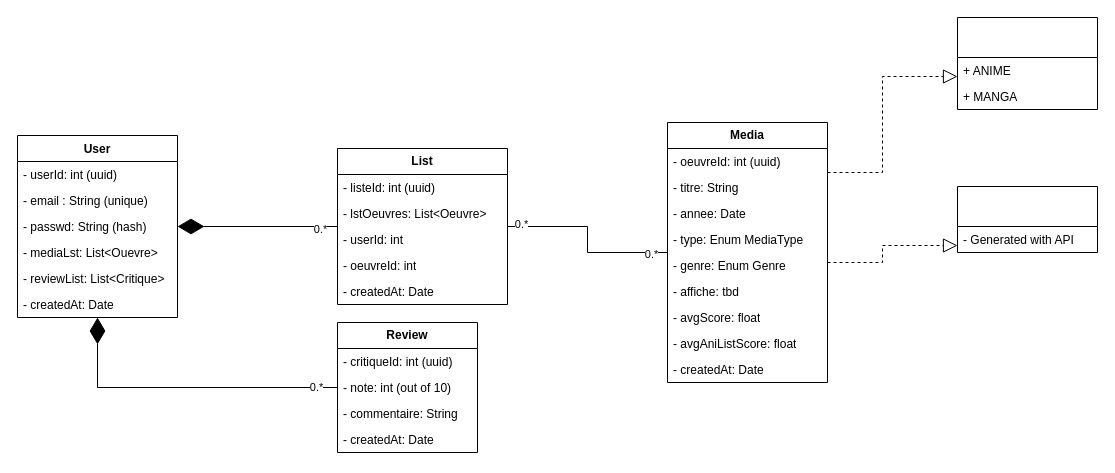
The diagram is 1115 pixels wide and 473 high, and some of its shapes have lost their labels. The box of each missing label's shape, as (x1, y1, x2, y2) in pixels:
Genre <<Enum>>: (956, 186, 1098, 252)
MediaType <<Enum>>: (956, 16, 1098, 110)
